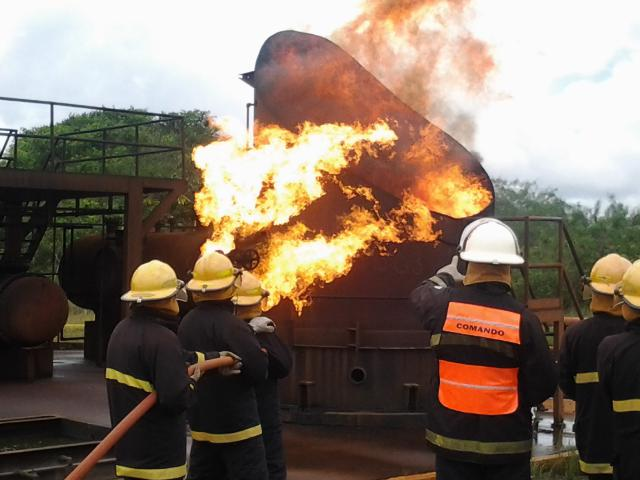fire: (194, 0, 494, 307)
